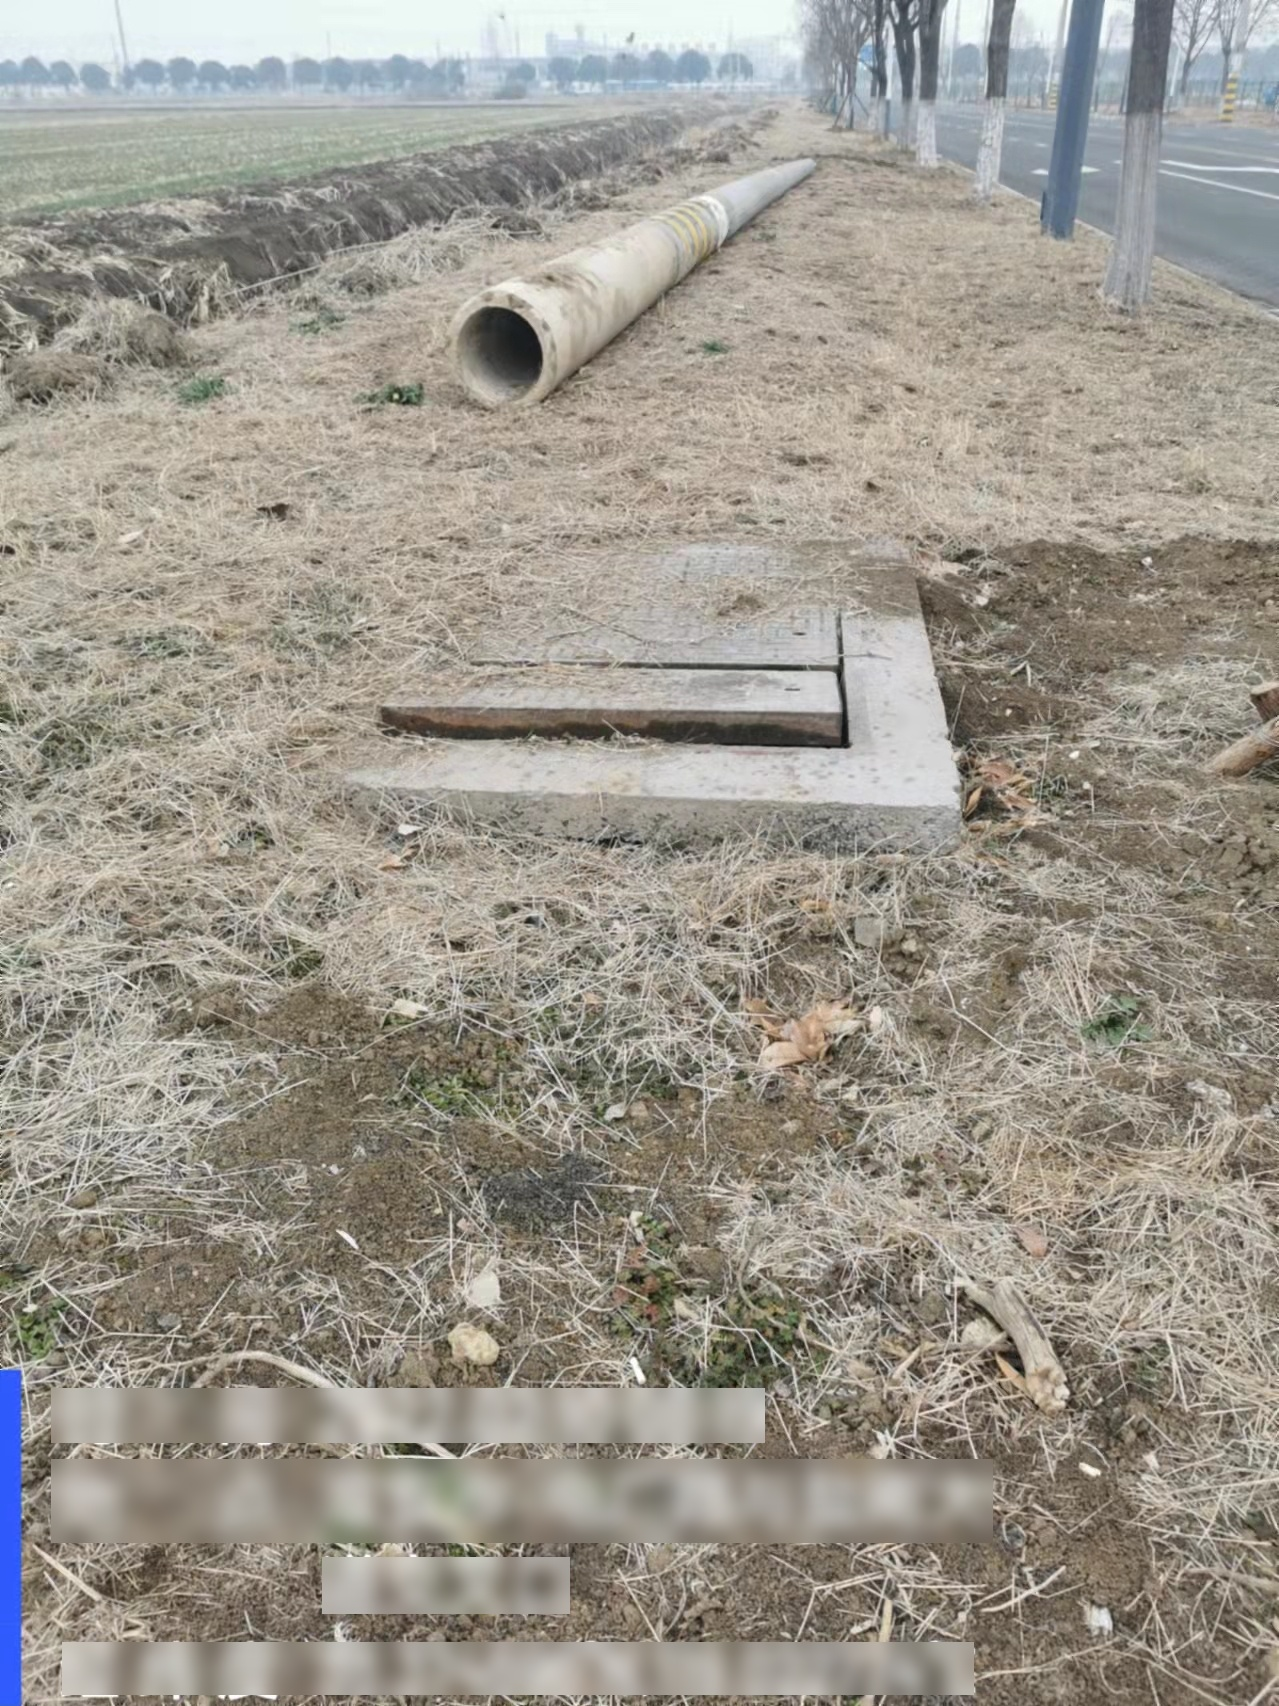uncovered: (373, 533, 869, 764)
